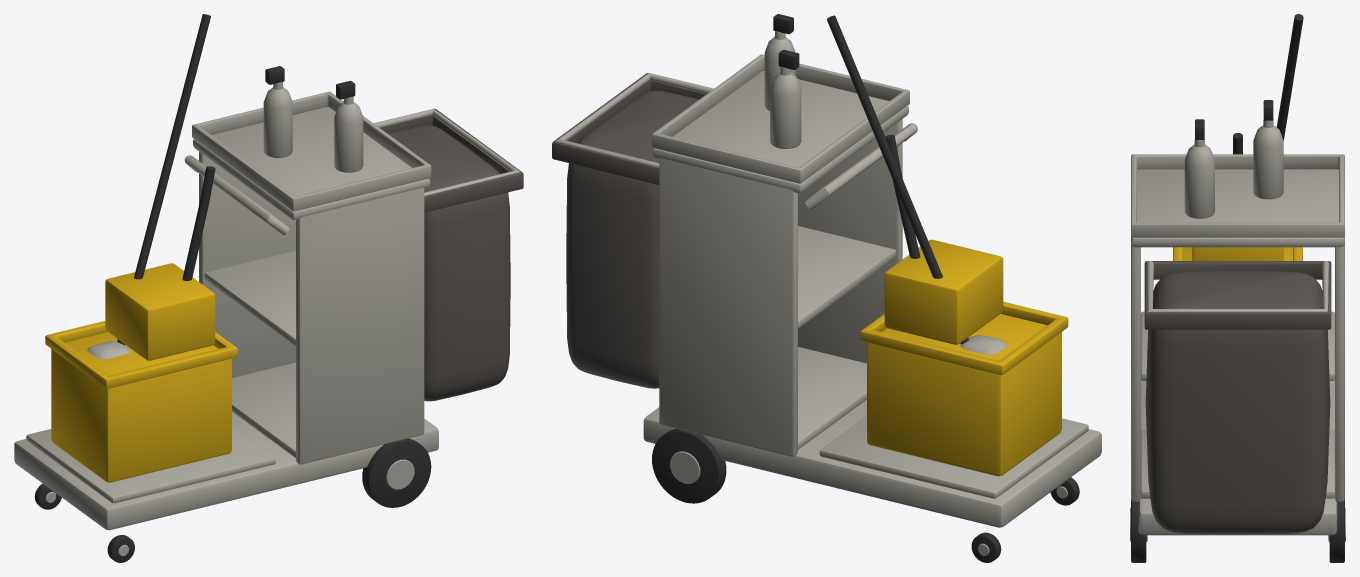
The model's file is Kit_JanitorCart.fbx.
The picture shows the model from 3 angles, left to right: view 1: azimuth 30°, elevation 25°; view 2: azimuth 150°, elevation 25°; view 3: azimuth 270°, elevation 25°; orthographic projection. The views are drawn at different scales.
Visible parts, largest first — view 1: Kit_JanitorCart_LOD0; view 2: Kit_JanitorCart_LOD0; view 3: Kit_JanitorCart_LOD0.
Boxes of the visible parts, box(x1,y1,x2,y2) form: Kit_JanitorCart_LOD0: box(14, 14, 523, 562); Kit_JanitorCart_LOD0: box(552, 14, 1101, 562); Kit_JanitorCart_LOD0: box(1130, 14, 1345, 562).
Size of what is drawn, in the model's own units: 1.33 by 1.4 by 0.566.
